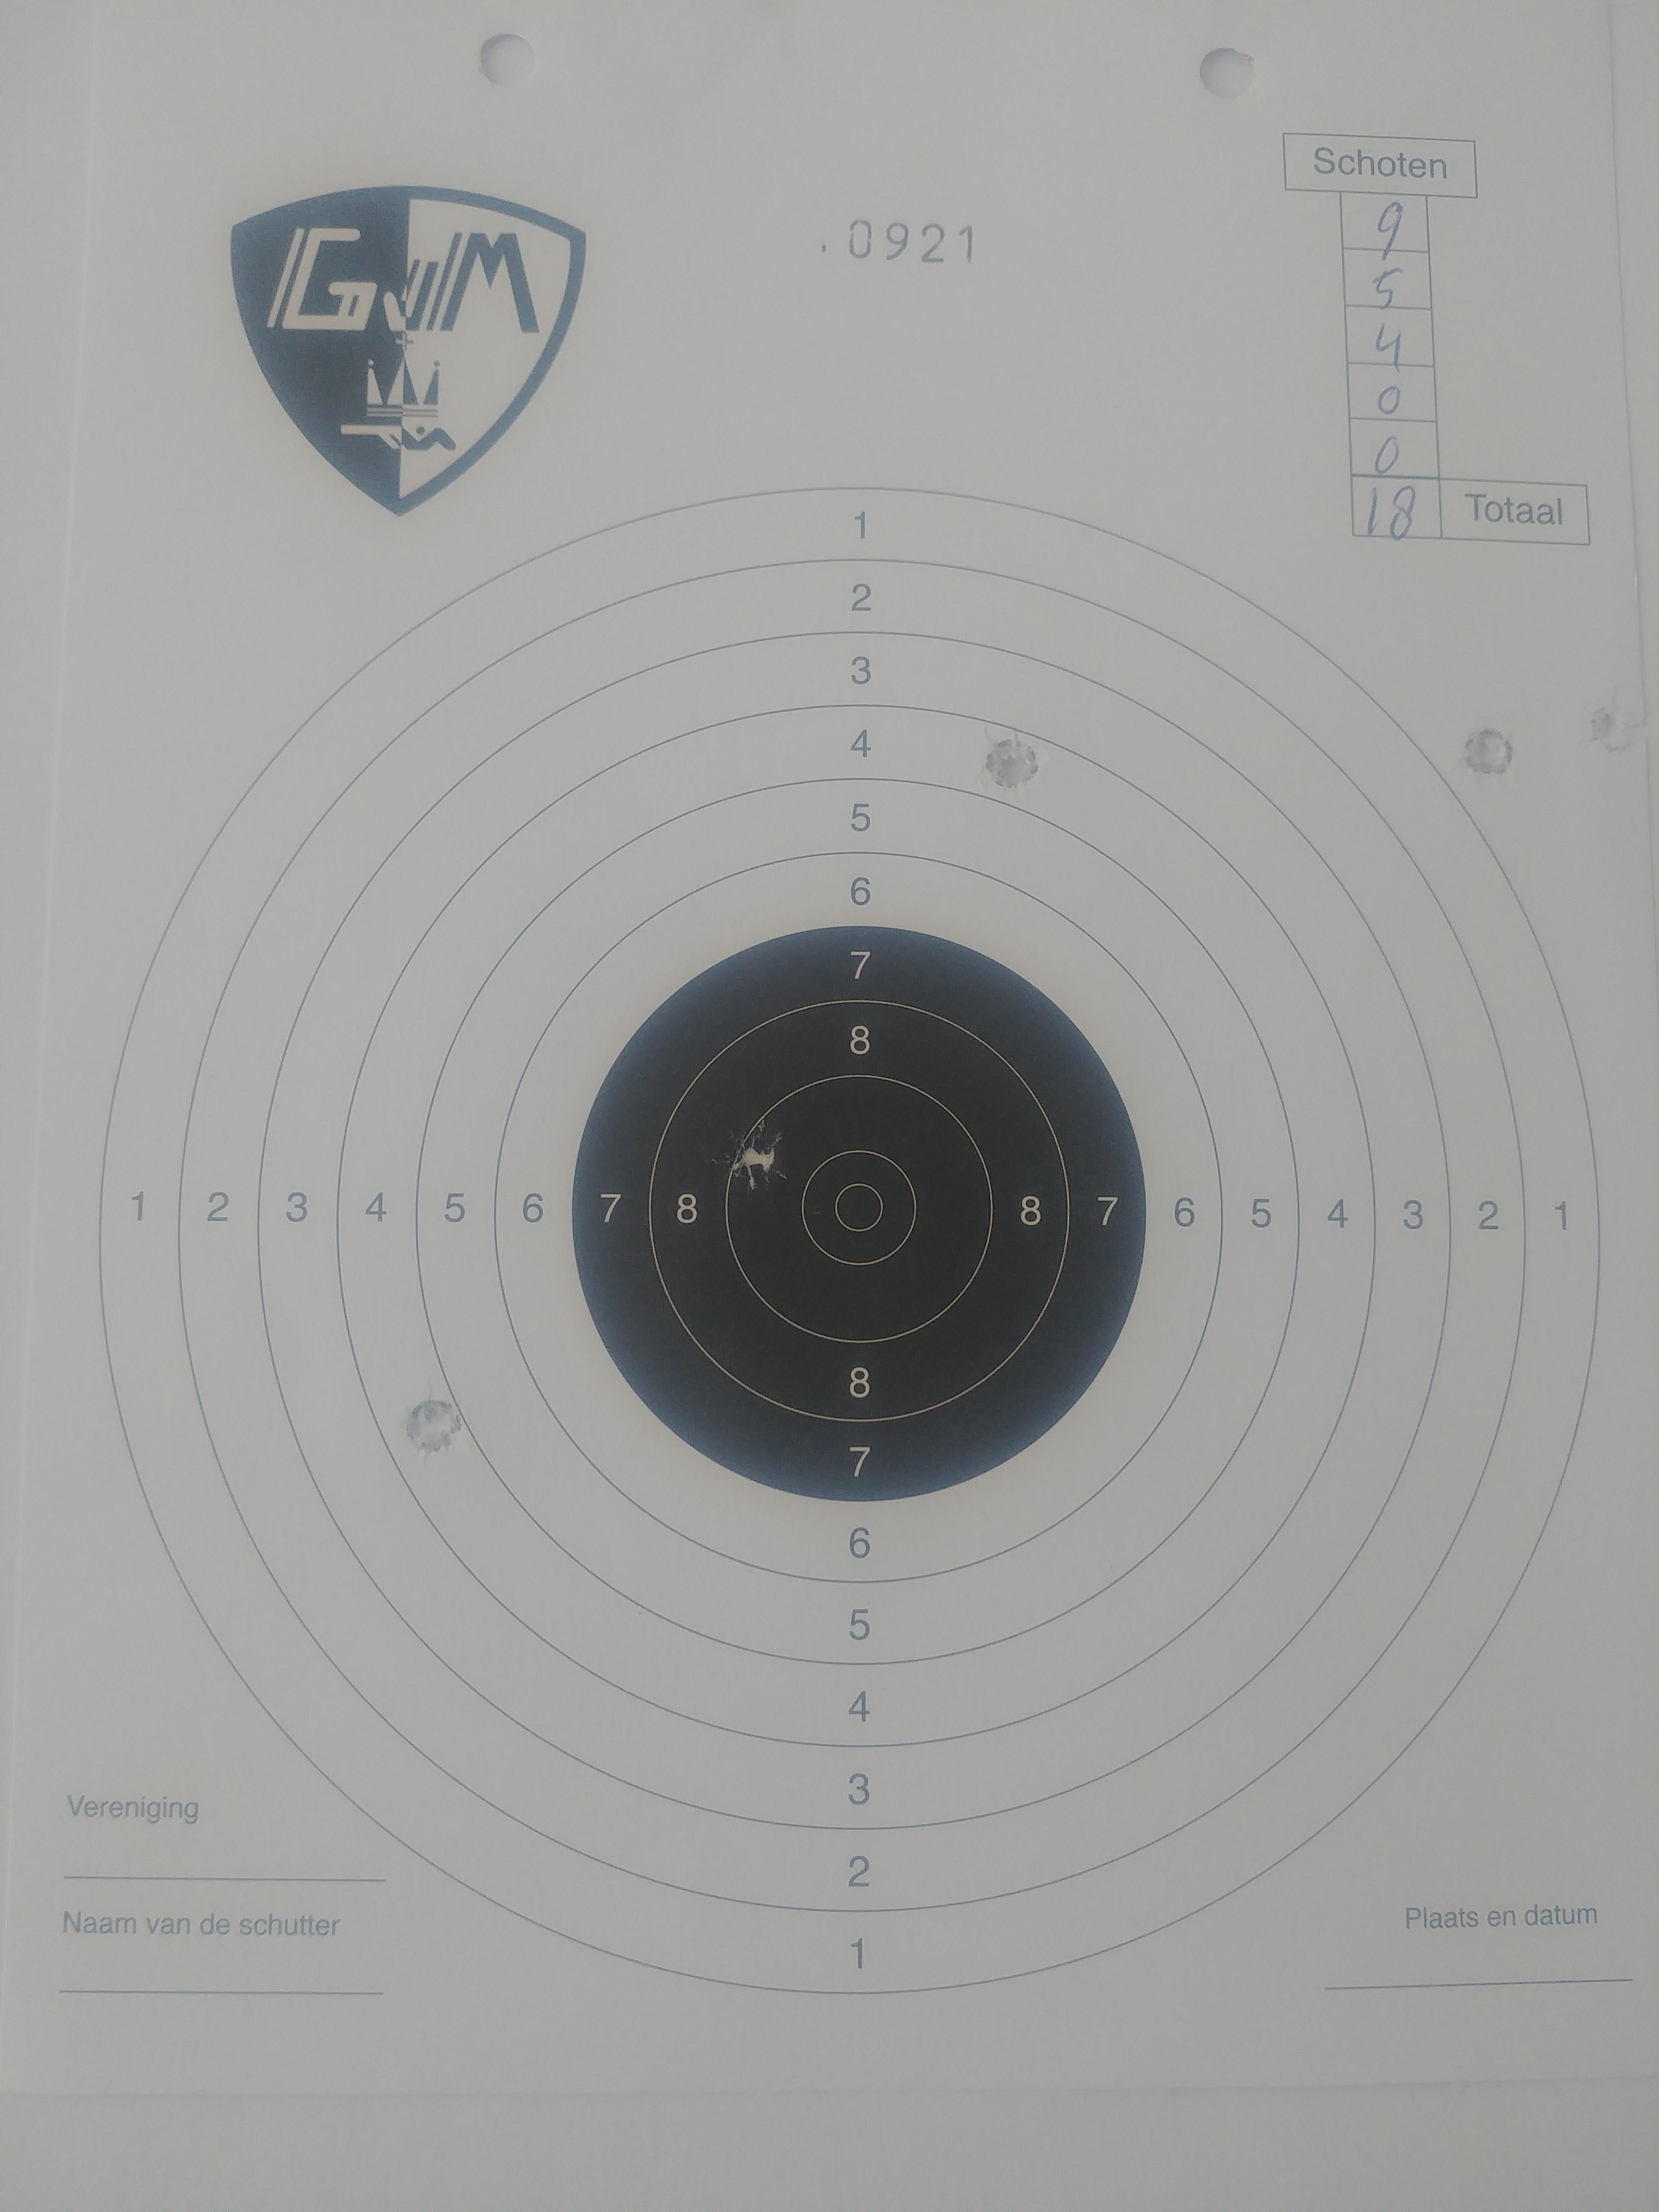center: (572, 925, 1147, 1501)
out: (98, 486, 1600, 1993)
shot: (709, 1116, 791, 1193), (401, 1379, 465, 1463), (974, 723, 1042, 796), (1460, 723, 1516, 779)
target: (800, 1150, 917, 1264)
